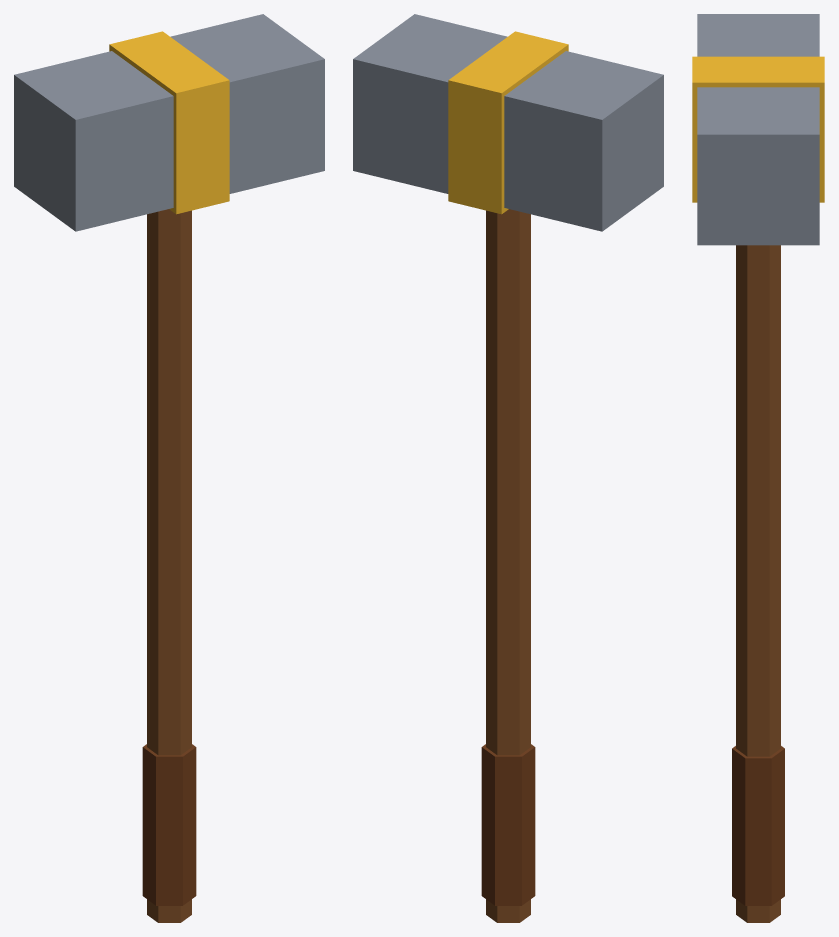
File: war_hammer.fbx
The picture shows the model from 3 angles, left to right: view 1: azimuth 30°, elevation 25°; view 2: azimuth 150°, elevation 25°; view 3: azimuth 270°, elevation 25°; orthographic projection.
Parts seen in each view (by area): view 1: war_hammer; view 2: war_hammer; view 3: war_hammer.
Part boxes in pixels (x1=…): war_hammer: x1=14, y1=14, x2=324, y2=922; war_hammer: x1=353, y1=14, x2=663, y2=922; war_hammer: x1=692, y1=14, x2=824, y2=922.
Bounding box in the file's own units: 0.28 × 0.915 × 0.13.
